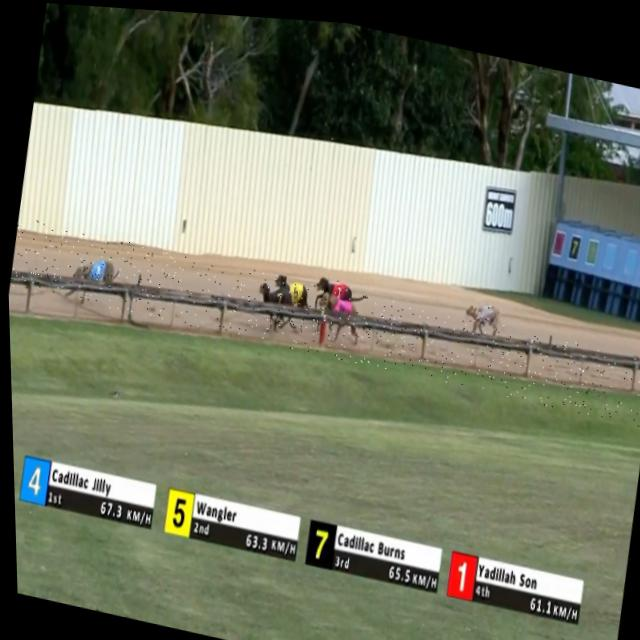dog_eight: (330, 292, 353, 318)
dog_five: (287, 278, 303, 303)
dog_four: (84, 257, 107, 287)
dog_one: (327, 274, 353, 303)
dog_seven: (270, 285, 287, 307)
dog_two: (474, 298, 491, 322)
rail: (8, 272, 640, 361)
